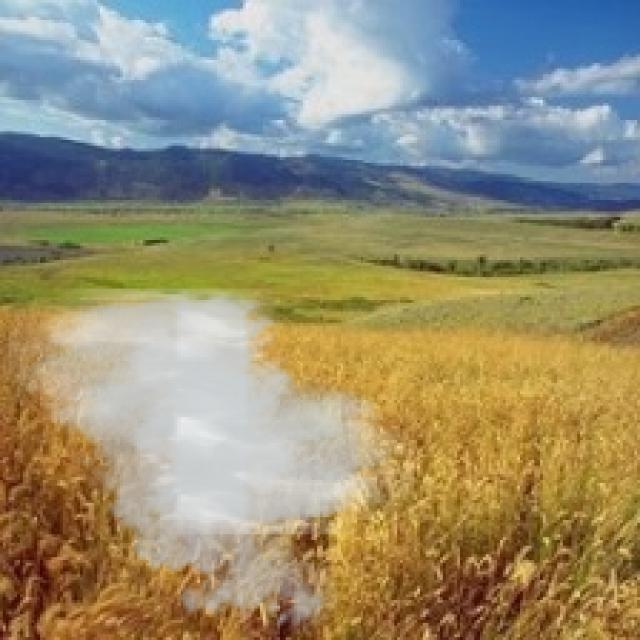smoke: (9, 289, 414, 637)
